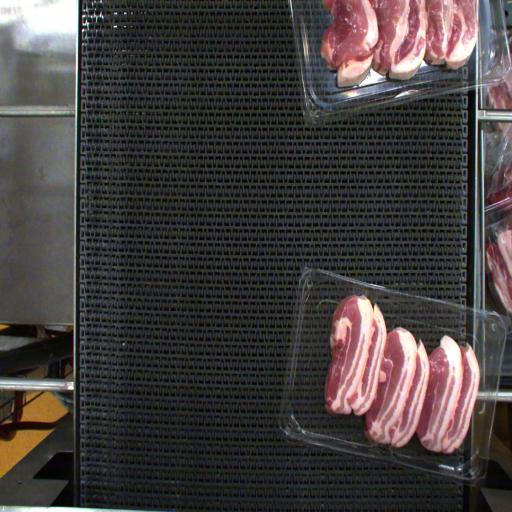packaging-error: (351, 284, 369, 300)
